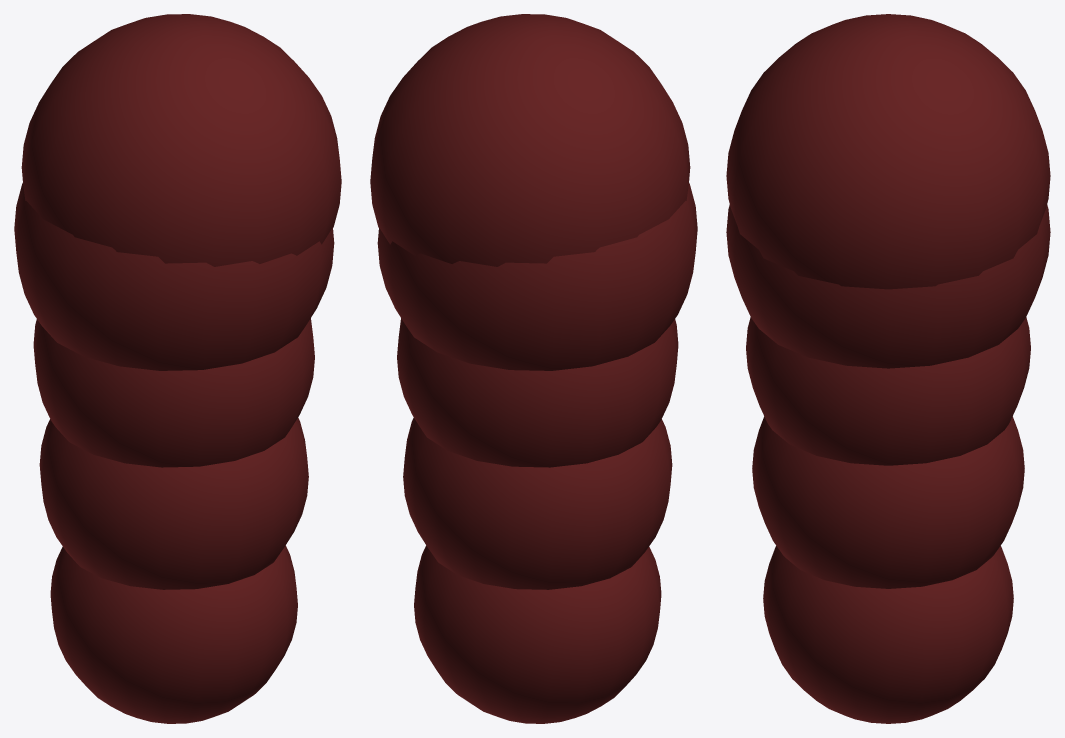
The model's file is House6.fbx.
The picture shows the model from 3 angles, left to right: view 1: azimuth 30°, elevation 25°; view 2: azimuth 150°, elevation 25°; view 3: azimuth 270°, elevation 25°; orthographic projection.
Visible parts, largest first — view 1: House6Ball5, House6Ball4, House6Ball2, House6Ball1, House6Ball3; view 2: House6Ball5, House6Ball4, House6Ball2, House6Ball1, House6Ball3; view 3: House6Ball5, House6Ball2, House6Ball1, House6Ball3, House6Ball4.
Boxes of the visible parts, x1=… form: House6Ball5: x1=21, y1=14, x2=341, y2=266; House6Ball4: x1=14, y1=183, x2=334, y2=370; House6Ball2: x1=39, y1=417, x2=308, y2=589; House6Ball1: x1=50, y1=545, x2=297, y2=723; House6Ball3: x1=33, y1=318, x2=314, y2=467; House6Ball5: x1=370, y1=14, x2=690, y2=266; House6Ball4: x1=377, y1=183, x2=697, y2=370; House6Ball2: x1=403, y1=417, x2=672, y2=589; House6Ball1: x1=414, y1=545, x2=661, y2=723; House6Ball3: x1=397, y1=318, x2=678, y2=467; House6Ball5: x1=726, y1=14, x2=1050, y2=289; House6Ball2: x1=752, y1=416, x2=1024, y2=588; House6Ball1: x1=763, y1=546, x2=1013, y2=723; House6Ball3: x1=746, y1=317, x2=1030, y2=465; House6Ball4: x1=726, y1=204, x2=1050, y2=368.
Size of the model in its own units: 26.07 by 59.38 by 25.4.
